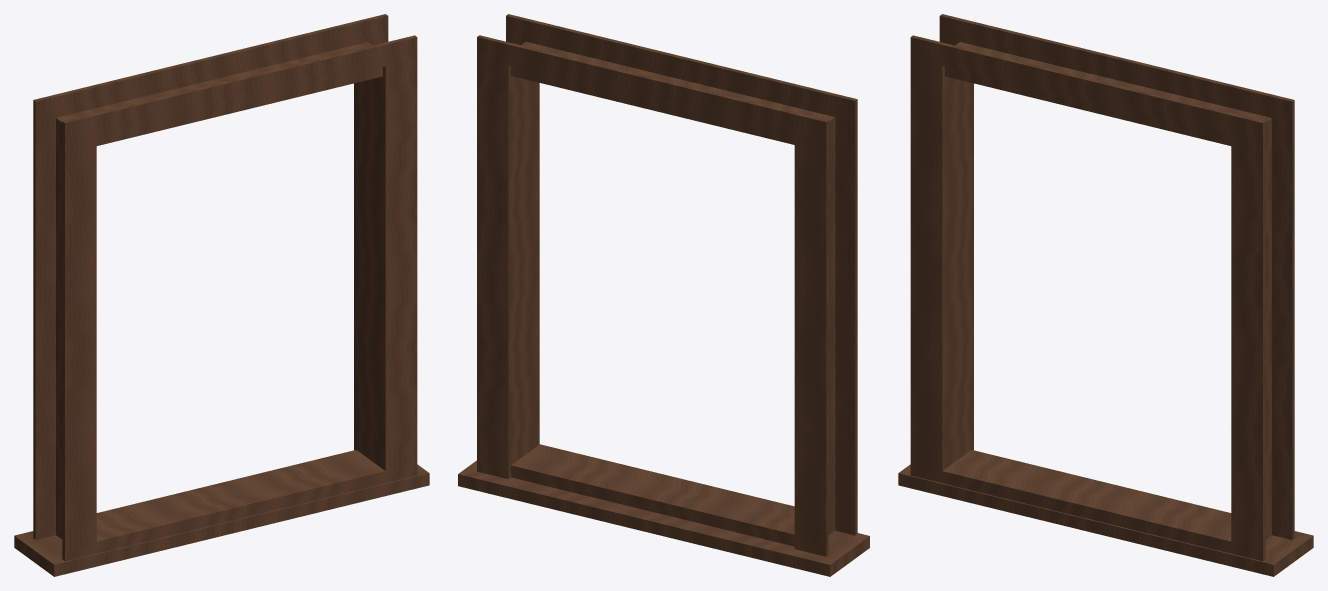
File: mlo_window_frame_walnut.glb
3 renders of one model, left to right at view 1: azimuth 30°, elevation 25°; view 2: azimuth 150°, elevation 25°; view 3: azimuth 330°, elevation 25°, orthographic.
Parts seen in each view (by area): view 1: Window_Frame_Walnut; view 2: Window_Frame_Walnut; view 3: Window_Frame_Walnut.
Part boxes in pixels (<box>): Window_Frame_Walnut: <box>14,14,429,576</box>; Window_Frame_Walnut: <box>458,14,869,576</box>; Window_Frame_Walnut: <box>898,14,1313,576</box>.
Bounding box in the file's own units: 1.3 × 1.49 × 0.24.
Materials: 1 (1 with a texture image).
